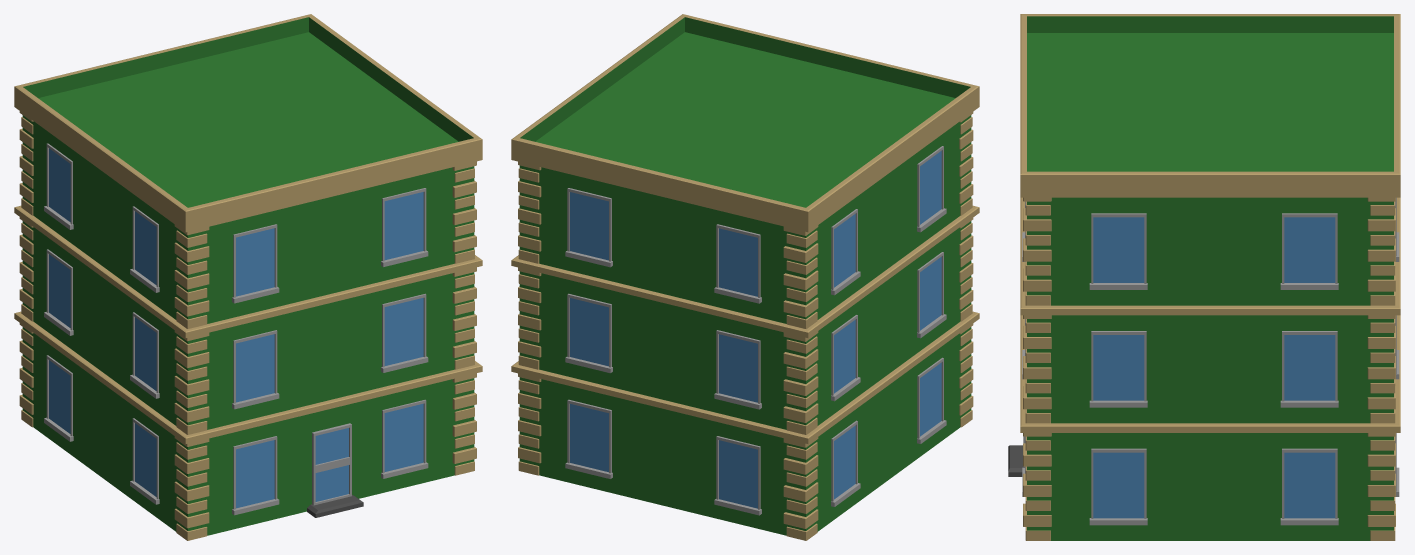
The model's file is GebouwGroenLaagZonderTrap.fbx.
3 renders of one model, left to right at view 1: azimuth 30°, elevation 25°; view 2: azimuth 150°, elevation 25°; view 3: azimuth 270°, elevation 25°, orthographic. The views are drawn at different scales.
Visible parts, largest first — view 1: gebouwGroenLaagZonderTrap; view 2: gebouwGroenLaagZonderTrap; view 3: gebouwGroenLaagZonderTrap.
Part boxes in pixels (bbox=[...]): gebouwGroenLaagZonderTrap: bbox=[14, 14, 482, 540]; gebouwGroenLaagZonderTrap: bbox=[511, 14, 979, 540]; gebouwGroenLaagZonderTrap: bbox=[1008, 14, 1400, 540].
Size of the model in its own units: 622 by 667 by 642.
